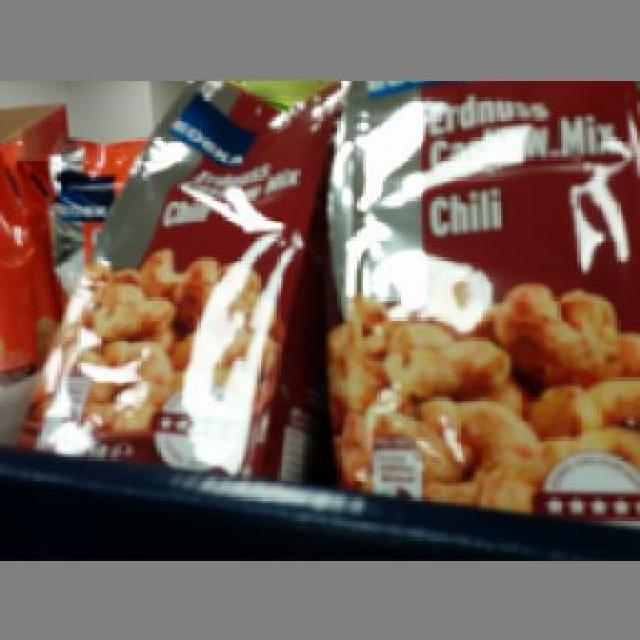Nuts: (326, 77, 637, 523), (17, 77, 334, 474)
